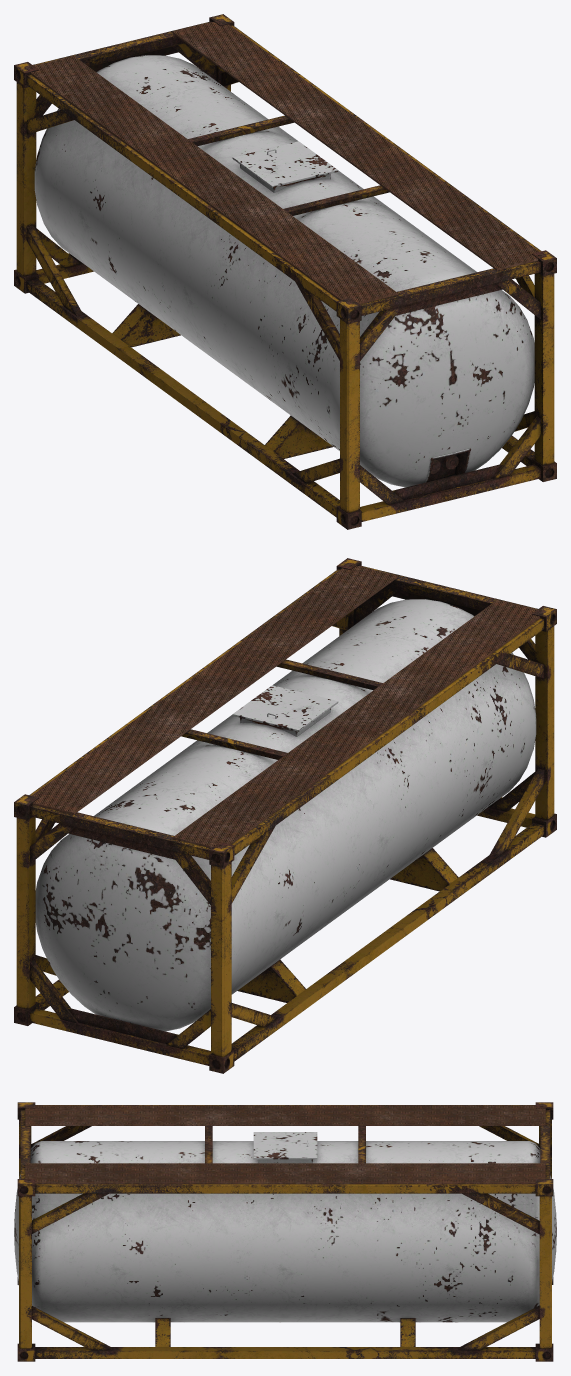
Rendered from ISOTank (merge).fbx.
3 views of the same model, one above another, from view 1: azimuth 30°, elevation 25°; view 2: azimuth 150°, elevation 25°; view 3: azimuth 270°, elevation 25° (orthographic). The views are drawn at different scales.
Visible parts, largest first — view 1: iso_tank_LOD0; view 2: iso_tank_LOD0; view 3: iso_tank_LOD0.
Boxes of the visible parts, x1,y1,x2,y2 form: iso_tank_LOD0: [14, 14, 556, 529]; iso_tank_LOD0: [14, 558, 556, 1073]; iso_tank_LOD0: [14, 1102, 556, 1361].
Size of what is drawn, in the model's own units: 2.54 by 2.57 by 7.09.
